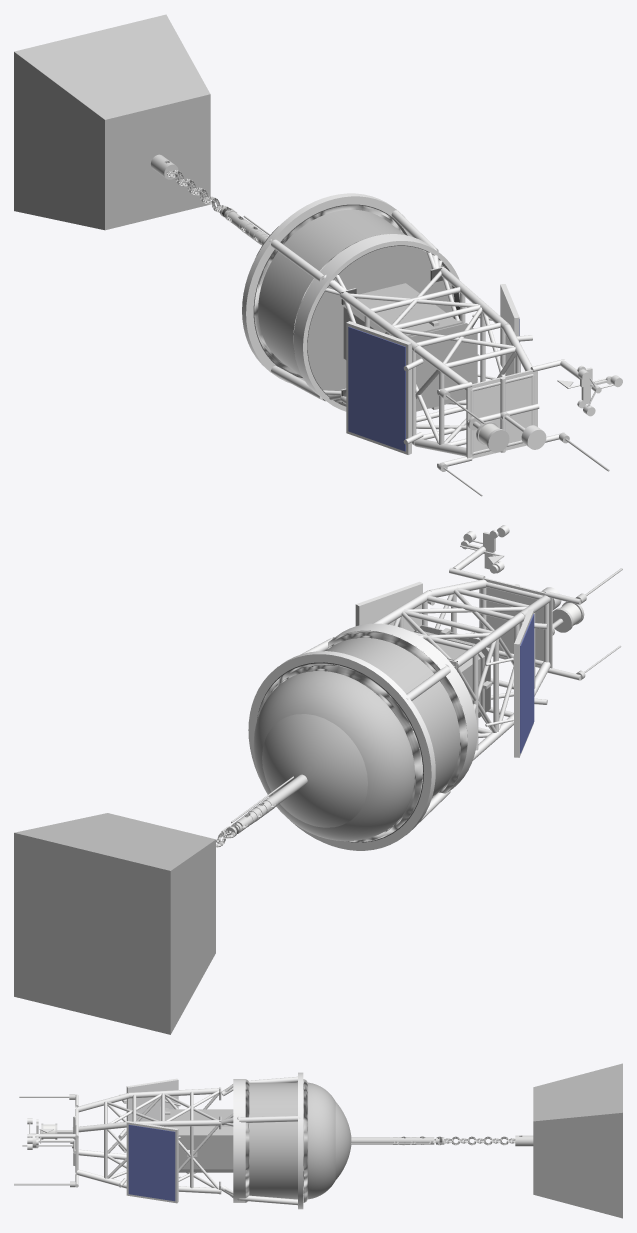
The model's file is FALCON-01.glb.
The picture shows the model from 3 angles, top to bottom: view 1: azimuth 30°, elevation 25°; view 2: azimuth 150°, elevation 25°; view 3: azimuth 270°, elevation 25°; orthographic projection. The views are drawn at different scales.
Parts seen in each view (by area): view 1: ANCHOR_REINFORCED_CONCRETE_BODY, MAIN_FLOAT_TRADITIONAL_V2_HDPE_BODY, TOP_CAP_HDPE_BODY, DUAL_SOLAR_02_MONOCRYSTALLINE_FACE, SPLIT_CLAMP_BAND_6061, TOP_SENSOR_PLATFORM_6061, LOWER_SPLIT_COLLAR_6061, SUN_RAIN_OVERHANG_HDPE, RECT_POD_8MM_HOLLOW_WALL, DUAL_SOLAR_02_ALUMINUM_FRAME, MAIN_FLOAT_LOWER_ROUNDED_FAIRING_HDPE_BODY, DUAL_SOLAR_01_ALUMINUM_FRAME (+2 smaller); view 2: ANCHOR_REINFORCED_CONCRETE_BODY, MAIN_FLOAT_TRADITIONAL_V2_HDPE_BODY, LOWER_SPLIT_COLLAR_6061, MAIN_FLOAT_LOWER_ROUNDED_FAIRING_HDPE_BODY, SPLIT_CLAMP_BAND_6061, TOP_SENSOR_PLATFORM_6061, MAIN_FLOAT_UPPER_ROUNDED_FAIRING_HDPE_BODY, DUAL_SOLAR_02_MONOCRYSTALLINE_FACE, DUAL_SOLAR_01_ALUMINUM_FRAME, DUAL_SOLAR_02_ALUMINUM_FRAME, WIND_SENSOR_BODY, MAST_NW_LOWER_POD_LEG_6061; view 3: ANCHOR_REINFORCED_CONCRETE_BODY, MAIN_FLOAT_TRADITIONAL_V2_HDPE_BODY, DUAL_SOLAR_01_MONOCRYSTALLINE_FACE, RECT_POD_8MM_HOLLOW_WALL, SPLIT_CLAMP_BAND_6061, DUAL_SOLAR_02_ALUMINUM_FRAME, DUAL_SOLAR_01_ALUMINUM_FRAME, LOWER_SPLIT_COLLAR_6061, MAIN_FLOAT_LOWER_ROUNDED_FAIRING_HDPE_BODY, MAIN_FLOAT_UPPER_ROUNDED_FAIRING_HDPE_BODY, MAST_NW_LOWER_POD_LEG_6061, MAST_NE_LOWER_POD_LEG_6061 (+10 smaller).
Boxes of the visible parts, left/top/right/bottom form: ANCHOR_REINFORCED_CONCRETE_BODY: left=14, top=14, right=210, bottom=230; MAIN_FLOAT_TRADITIONAL_V2_HDPE_BODY: left=255, top=209, right=454, bottom=376; TOP_CAP_HDPE_BODY: left=307, top=246, right=452, bottom=403; DUAL_SOLAR_02_MONOCRYSTALLINE_FACE: left=348, top=326, right=405, bottom=451; SPLIT_CLAMP_BAND_6061: left=293, top=234, right=459, bottom=411; TOP_SENSOR_PLATFORM_6061: left=466, top=369, right=537, bottom=458; LOWER_SPLIT_COLLAR_6061: left=242, top=193, right=412, bottom=383; SUN_RAIN_OVERHANG_HDPE: left=409, top=323, right=477, bottom=411; RECT_POD_8MM_HOLLOW_WALL: left=343, top=283, right=456, bottom=359; DUAL_SOLAR_02_ALUMINUM_FRAME: left=346, top=321, right=411, bottom=454; MAIN_FLOAT_LOWER_ROUNDED_FAIRING_HDPE_BODY: left=254, top=205, right=402, bottom=374; DUAL_SOLAR_01_ALUMINUM_FRAME: left=500, top=284, right=519, bottom=375; ANCHOR_REINFORCED_CONCRETE_BODY: left=14, top=813, right=215, bottom=1034; MAIN_FLOAT_TRADITIONAL_V2_HDPE_BODY: left=253, top=637, right=460, bottom=841; LOWER_SPLIT_COLLAR_6061: left=248, top=651, right=435, bottom=850; MAIN_FLOAT_LOWER_ROUNDED_FAIRING_HDPE_BODY: left=257, top=663, right=423, bottom=842; SPLIT_CLAMP_BAND_6061: left=329, top=623, right=477, bottom=792; TOP_SENSOR_PLATFORM_6061: left=479, top=578, right=552, bottom=668; MAIN_FLOAT_UPPER_ROUNDED_FAIRING_HDPE_BODY: left=327, top=630, right=467, bottom=797; DUAL_SOLAR_02_MONOCRYSTALLINE_FACE: left=520, top=614, right=534, bottom=753; DUAL_SOLAR_01_ALUMINUM_FRAME: left=355, top=581, right=422, bottom=631; DUAL_SOLAR_02_ALUMINUM_FRAME: left=514, top=609, right=533, bottom=757; WIND_SENSOR_BODY: left=453, top=530, right=498, bottom=573; MAST_NW_LOWER_POD_LEG_6061: left=454, top=612, right=524, bottom=668; ANCHOR_REINFORCED_CONCRETE_BODY: left=533, top=1063, right=622, bottom=1218; MAIN_FLOAT_TRADITIONAL_V2_HDPE_BODY: left=249, top=1082, right=351, bottom=1199; DUAL_SOLAR_01_MONOCRYSTALLINE_FACE: left=128, top=1124, right=175, bottom=1201; RECT_POD_8MM_HOLLOW_WALL: left=168, top=1109, right=233, bottom=1172; SPLIT_CLAMP_BAND_6061: left=233, top=1079, right=245, bottom=1202; DUAL_SOLAR_02_ALUMINUM_FRAME: left=126, top=1078, right=178, bottom=1121; DUAL_SOLAR_01_ALUMINUM_FRAME: left=126, top=1121, right=178, bottom=1203; LOWER_SPLIT_COLLAR_6061: left=298, top=1072, right=303, bottom=1209; MAIN_FLOAT_LOWER_ROUNDED_FAIRING_HDPE_BODY: left=303, top=1079, right=307, bottom=1202; MAIN_FLOAT_UPPER_ROUNDED_FAIRING_HDPE_BODY: left=245, top=1079, right=249, bottom=1202; MAST_NW_LOWER_POD_LEG_6061: left=129, top=1088, right=220, bottom=1098; MAST_NE_LOWER_POD_LEG_6061: left=134, top=1120, right=220, bottom=1126.
Bounding box in the file's own units: 0.76 × 0.76 × 3.39.
